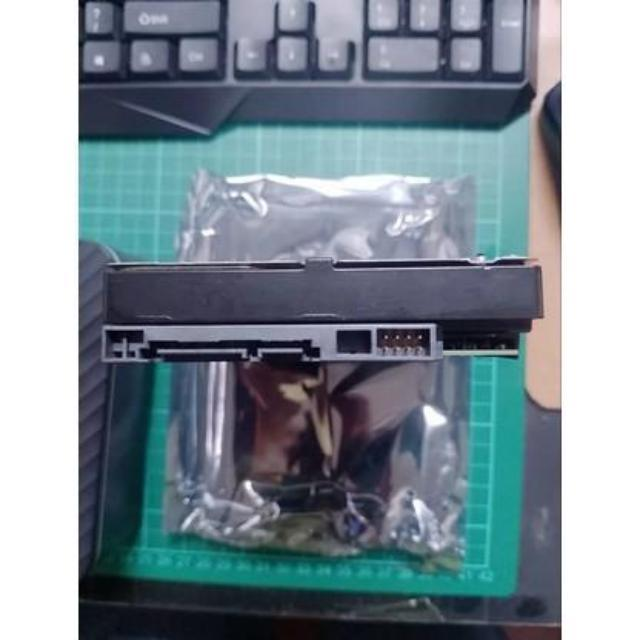DISK: (101, 248, 547, 376)
